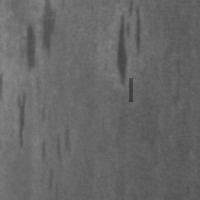inclusion: (39, 106, 71, 197), (113, 1, 145, 87), (17, 18, 39, 75), (39, 1, 58, 63), (13, 90, 31, 151), (128, 76, 132, 103)
